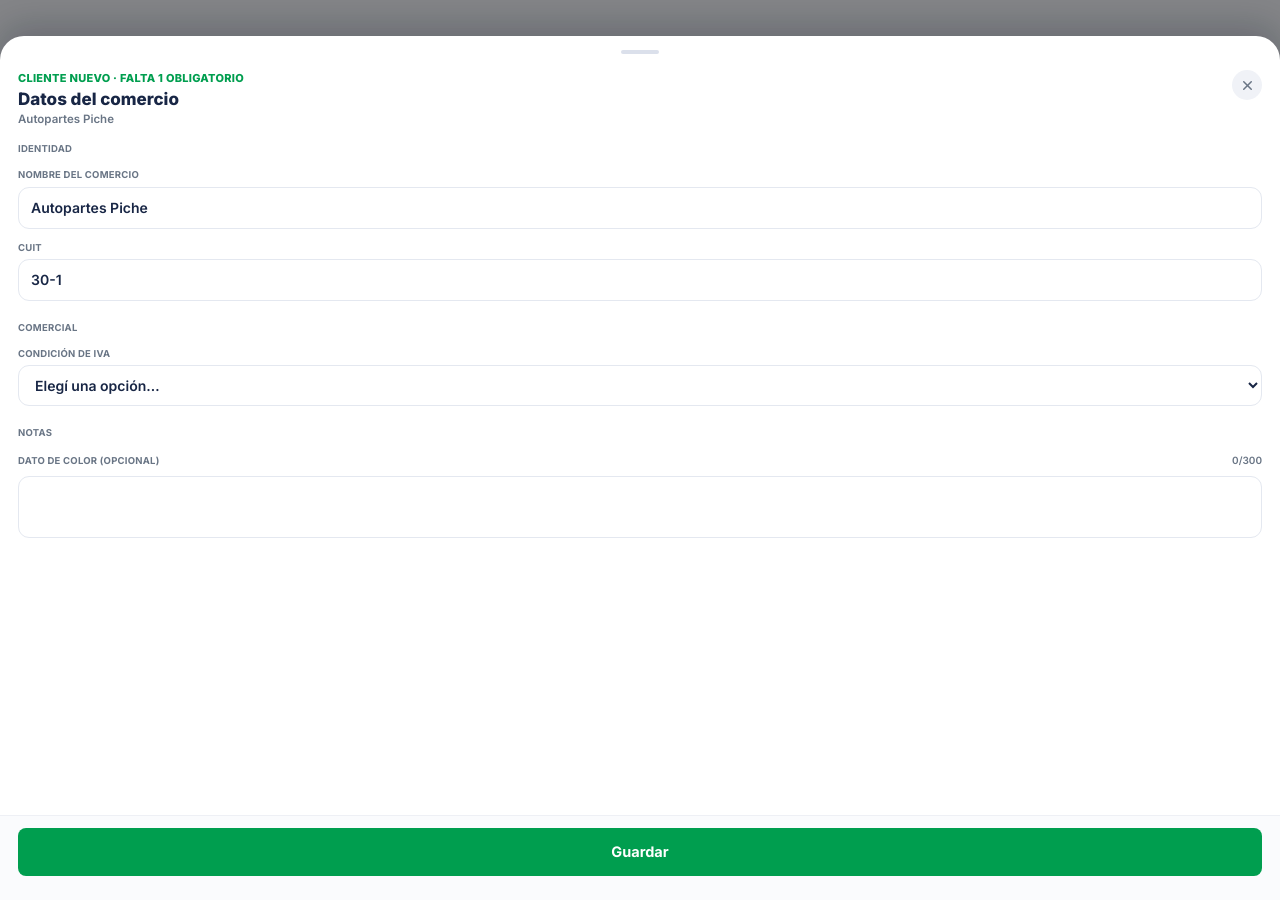
Scenario: dato rechazado por la API → muestra SU mensaje, y editar un campo lo limpia
Replace the text in the field labelled "CUIT" with "30-9" at (640, 280), box [18, 259, 1262, 301]
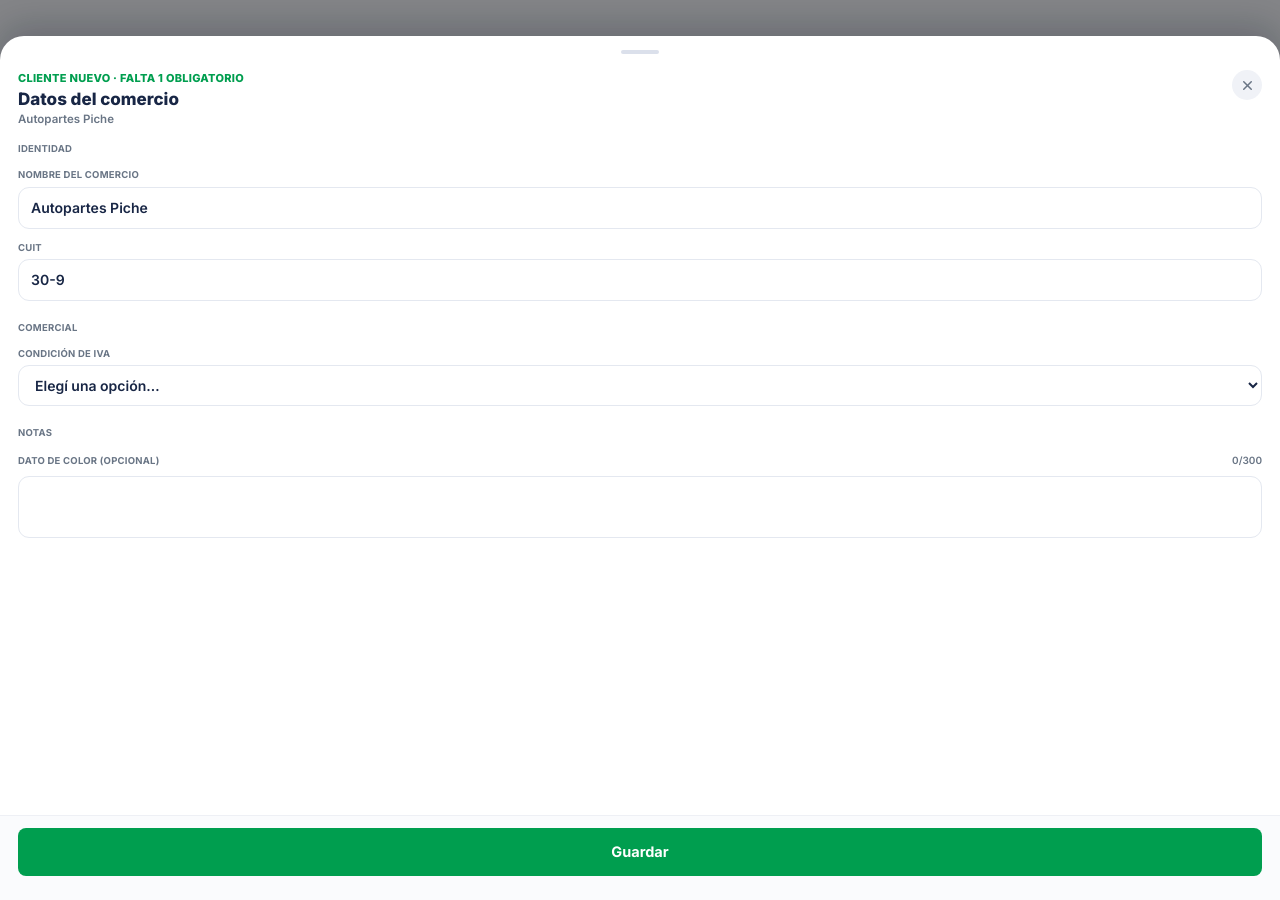
Click the button "Guardar" at (640, 852), box [18, 828, 1262, 876]
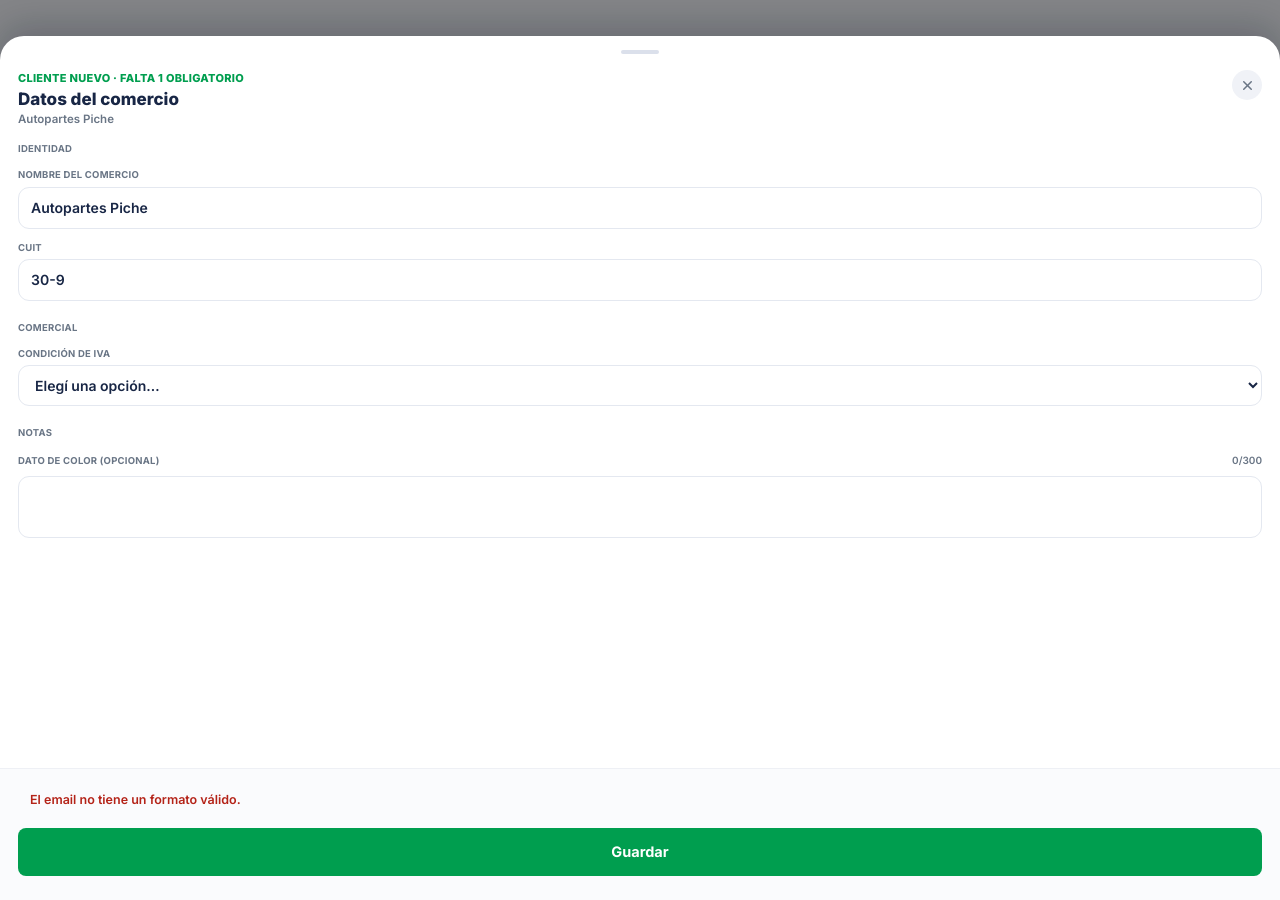
Check: the message reads "El email no tiene un formato válido.", box [30, 792, 241, 807]
Replace the text in the field labelled "CUIT" with "30-8" at (640, 280), box [18, 259, 1262, 301]
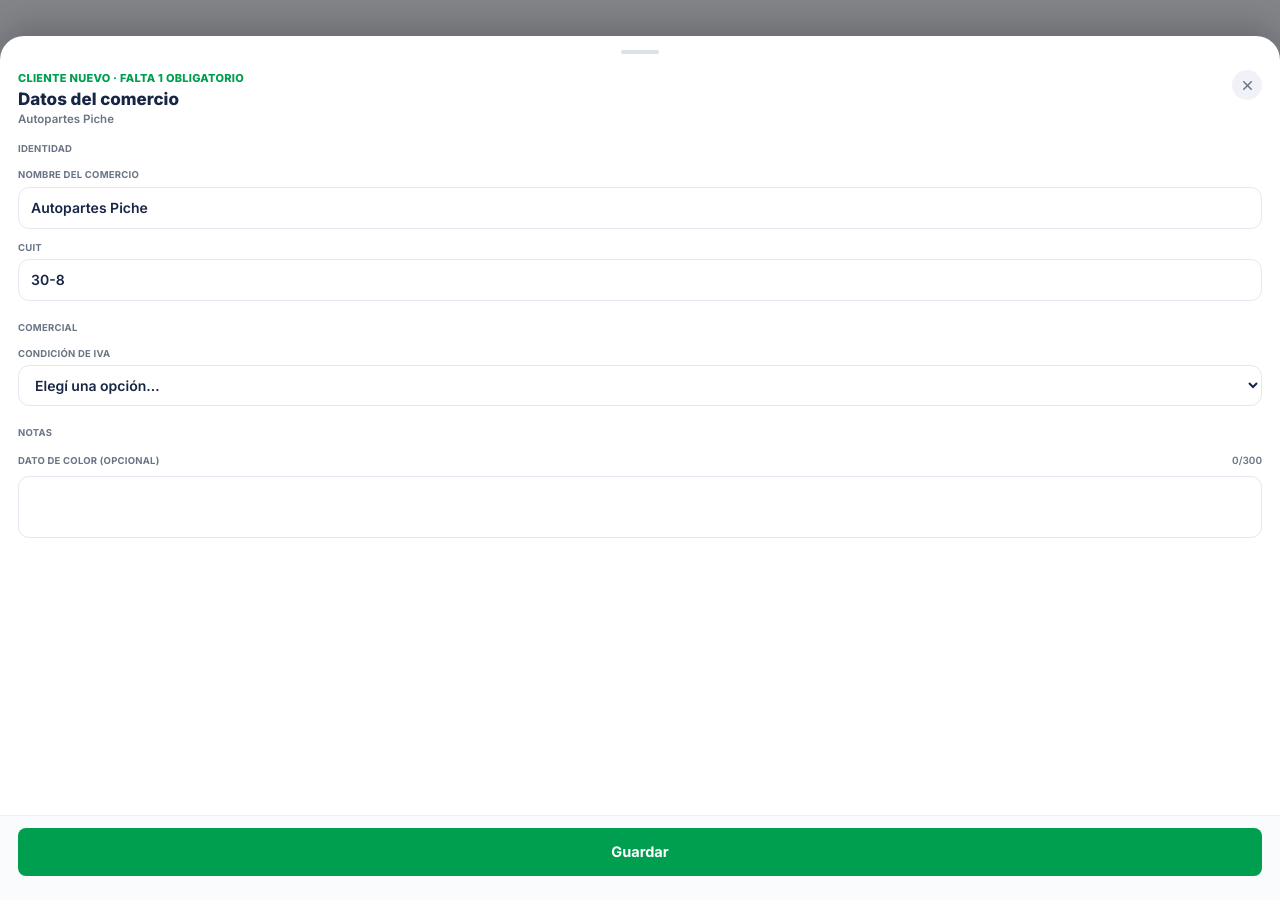
Check: the message "El email no tiene un formato válido." is gone
